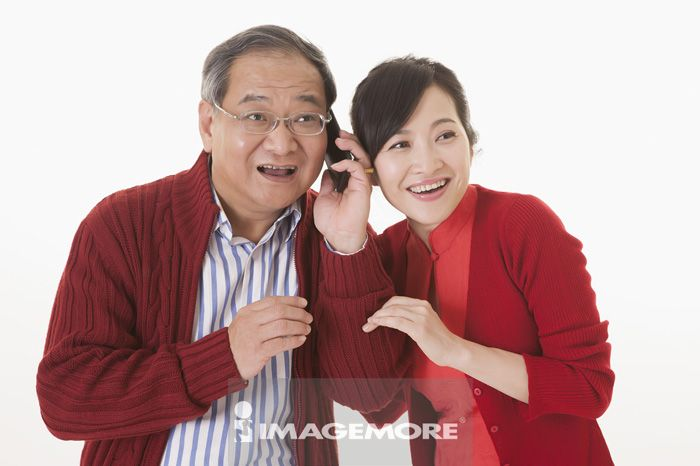talk: (233, 85, 373, 246)
